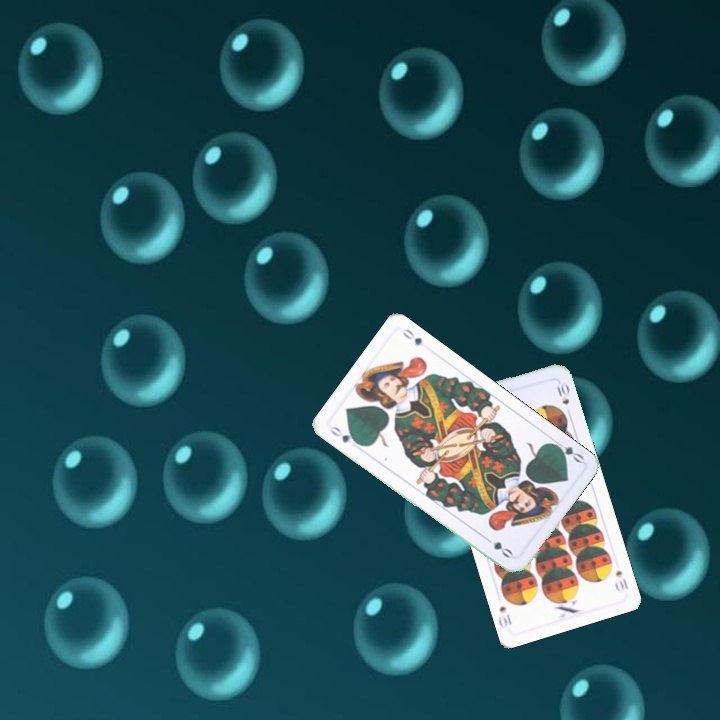GO: (548, 435, 587, 466), (326, 422, 363, 448)
S10: (612, 566, 631, 592)
